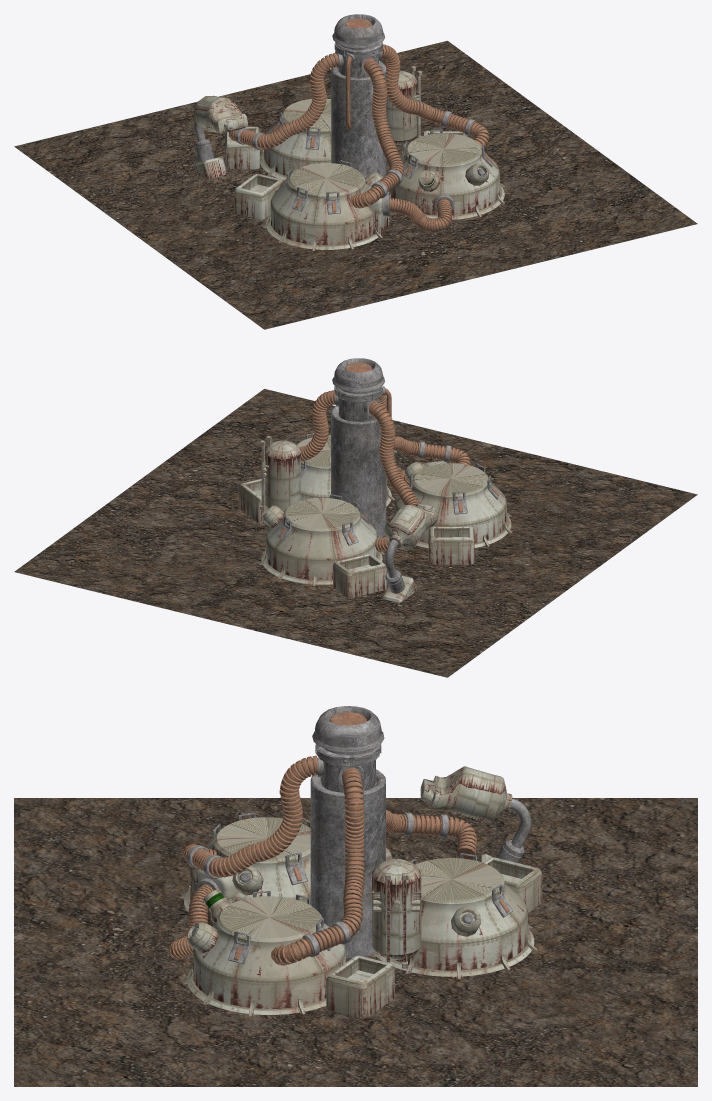
Rendered from static1.fbx.
3 renders of one model, top to bottom at view 1: azimuth 30°, elevation 25°; view 2: azimuth 150°, elevation 25°; view 3: azimuth 270°, elevation 25°, orthographic. The views are drawn at different scales.
Visible parts, largest first — view 1: scorch, Cylinder_5, Cylinder_7, Cylinder_3_2, Cylinder_3, Cube_21, Loft_remesh, Cylinder_1_remesh, Cylinder_8, Cube_2, Cylinder_1_2, Cube; view 2: scorch, Cylinder_3, Cylinder_3_2, Cylinder_5, Cube_2, Cube_21, Cylinder_8, Loft_remesh, Cylinder_7, Cylinder_1_remesh, Cube_40, Cylinder_10 (+1 smaller); view 3: scorch, Cylinder_7, Cylinder_3, Cylinder_3_2, Cylinder_5, Loft_remesh, Cube_40, Cylinder_8, Cylinder_1_remesh, Cube_2, Sphere, Cylinder_1 (+7 smaller).
Part boxes in pixels (bbox=[...]): scorch: bbox=[14, 40, 697, 329]; Cylinder_5: bbox=[270, 163, 374, 245]; Cylinder_7: bbox=[388, 133, 499, 215]; Cylinder_3_2: bbox=[331, 60, 386, 177]; Cylinder_3: bbox=[264, 98, 331, 175]; Cube_21: bbox=[234, 173, 283, 219]; Loft_remesh: bbox=[194, 95, 247, 133]; Cylinder_1_remesh: bbox=[332, 14, 384, 48]; Cylinder_8: bbox=[386, 82, 417, 140]; Cube_2: bbox=[225, 126, 260, 169]; Cylinder_1_2: bbox=[266, 215, 378, 249]; Cube: bbox=[191, 157, 226, 179]; scorch: bbox=[14, 389, 697, 677]; Cylinder_3: bbox=[266, 497, 377, 580]; Cylinder_3_2: bbox=[331, 406, 386, 538]; Cylinder_5: bbox=[394, 463, 506, 543]; Cube_2: bbox=[333, 554, 386, 597]; Cube_21: bbox=[428, 526, 474, 564]; Cylinder_8: bbox=[265, 451, 300, 510]; Loft_remesh: bbox=[384, 503, 437, 550]; Cylinder_7: bbox=[297, 435, 386, 500]; Cylinder_1_remesh: bbox=[332, 358, 385, 392]; Cube_40: bbox=[238, 478, 267, 523]; Cylinder_10: bbox=[338, 389, 378, 421]; scorch: bbox=[14, 798, 697, 1086]; Cylinder_7: bbox=[193, 896, 345, 1008]; Cylinder_3: bbox=[395, 858, 527, 970]; Cylinder_3_2: bbox=[310, 769, 385, 958]; Cylinder_5: bbox=[190, 817, 310, 902]; Loft_remesh: bbox=[420, 766, 512, 823]; Cube_40: bbox=[326, 955, 394, 1018]; Cylinder_8: bbox=[372, 872, 421, 954]; Cylinder_1_remesh: bbox=[312, 706, 384, 752]; Cube_2: bbox=[483, 857, 542, 912]; Sphere: bbox=[372, 859, 421, 959]; Cylinder_1: bbox=[376, 929, 534, 976].
Bounding box in the file's own units: 1103 × 496 × 1103.
